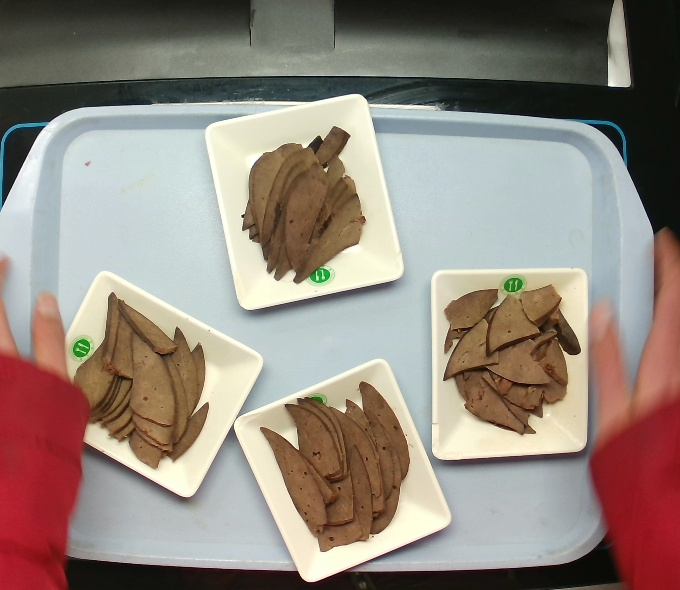wcq-ZhuGan: (253, 372, 414, 559), (68, 289, 214, 477), (434, 278, 585, 441), (238, 122, 369, 289)
